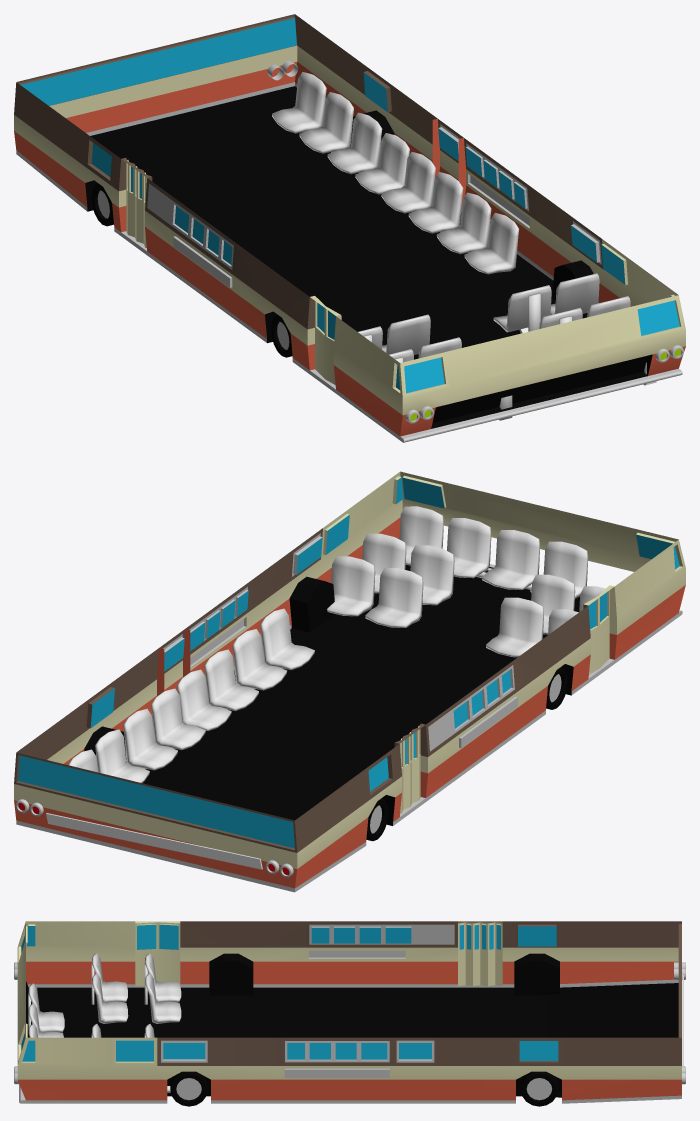
The model's file is bus1.fbx.
The picture shows the model from 3 angles, top to bottom: view 1: azimuth 30°, elevation 25°; view 2: azimuth 150°, elevation 25°; view 3: azimuth 270°, elevation 25°; orthographic projection. The views are drawn at different scales.
Parts seen in each view (by area): view 1: Cylinder.001, metrouloke.001, metrouloke.002, metrouloke.005, metrouloke.006, metrouloke.004, metrouloke.007; view 2: Cylinder.001, metrouloke.003, metrouloke.001, metrouloke.002, metrouloke.005, metrouloke.004, metrouloke.006, metrouloke.007; view 3: Cylinder.001, metrouloke.006, metrouloke.007, metrouloke.003.
Boxes of the visible parts, <box> form: Cylinder.001: <box>14,14,685,442</box>; metrouloke.001: <box>381,152,519,274</box>; metrouloke.002: <box>272,72,409,194</box>; metrouloke.005: <box>493,273,599,333</box>; metrouloke.006: <box>358,314,430,354</box>; metrouloke.004: <box>539,296,630,328</box>; metrouloke.007: <box>389,337,461,362</box>; Cylinder.001: <box>14,471,685,892</box>; metrouloke.003: <box>399,506,588,598</box>; metrouloke.001: <box>177,608,314,731</box>; metrouloke.002: <box>68,688,205,782</box>; metrouloke.005: <box>327,556,423,627</box>; metrouloke.004: <box>362,533,454,605</box>; metrouloke.006: <box>486,597,578,657</box>; metrouloke.007: <box>531,574,605,634</box>; Cylinder.001: <box>14,921,685,1106</box>; metrouloke.006: <box>144,953,181,1023</box>; metrouloke.007: <box>91,953,128,1023</box>; metrouloke.003: <box>28,983,64,1037</box>.
Bounding box in the file's own units: 857 × 241 × 2026.
